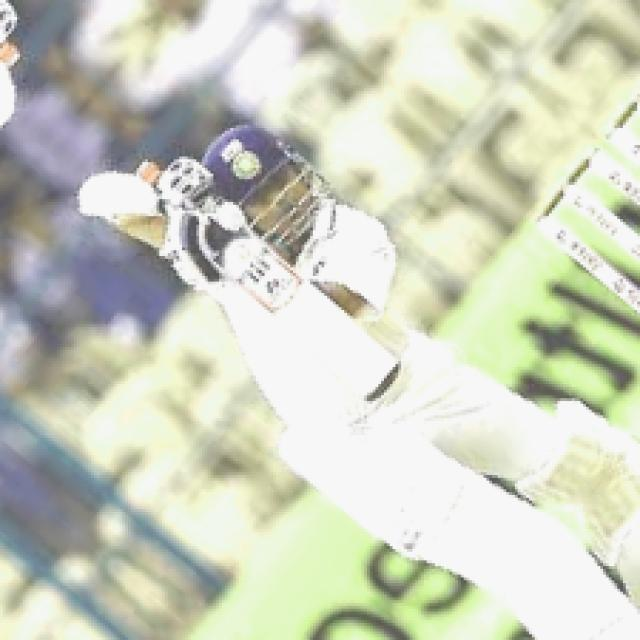bat: (213, 233, 411, 406)
toe: (363, 359, 407, 405)
